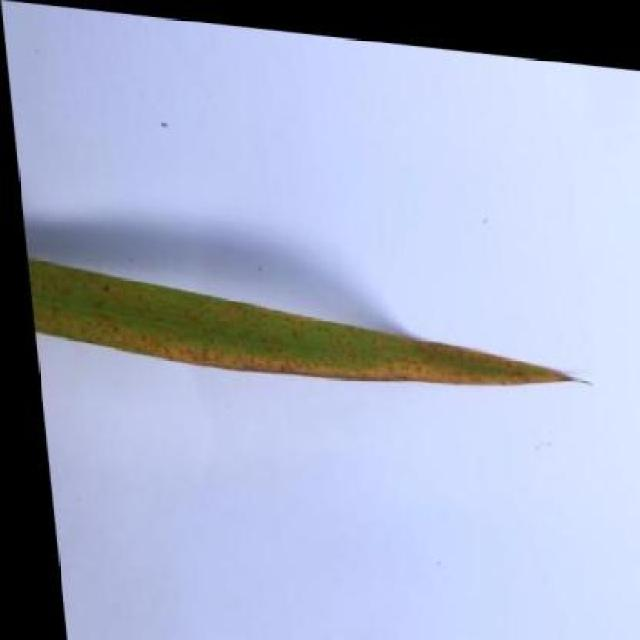Rice False Smut: (22, 257, 572, 375)
